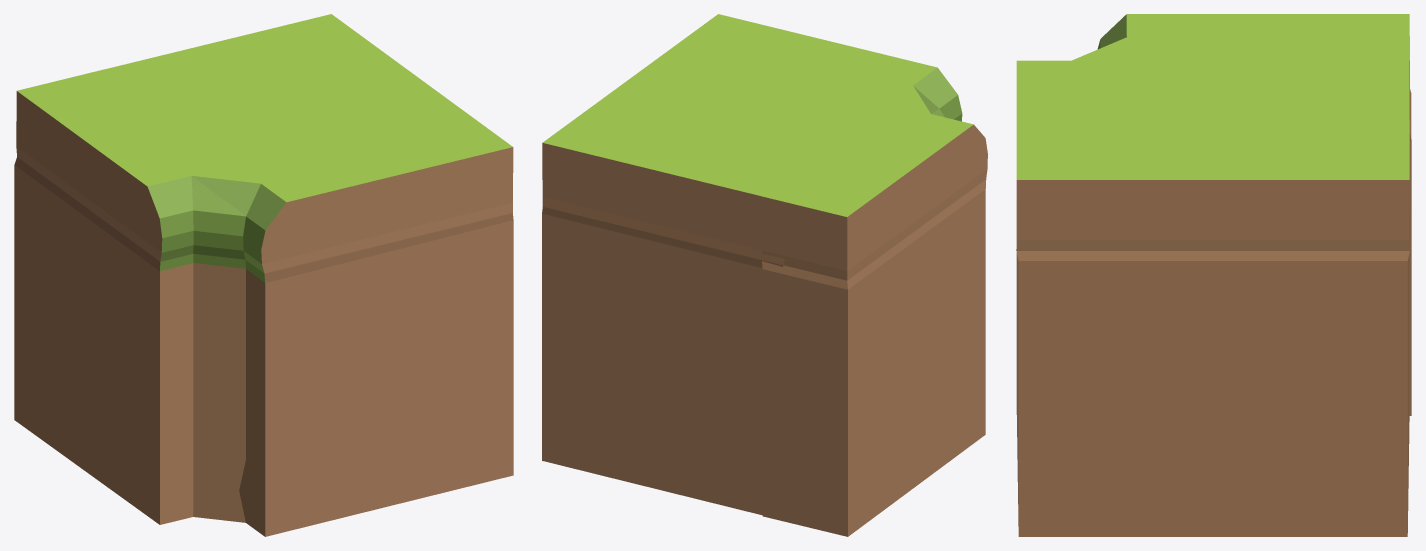
Rendered from Tile_K_1.fbx.
The picture shows the model from 3 angles, left to right: view 1: azimuth 30°, elevation 25°; view 2: azimuth 150°, elevation 25°; view 3: azimuth 270°, elevation 25°; orthographic projection. The views are drawn at different scales.
Visible parts, largest first — view 1: Cube.160; view 2: Cube.160; view 3: Cube.160.
Part boxes in pixels (left/top/right/bottom): Cube.160: left=14, top=14, right=513, bottom=536; Cube.160: left=542, top=14, right=987, bottom=536; Cube.160: left=1016, top=14, right=1411, bottom=536.
Size of the model in its own units: 1.01 by 1 by 1.
